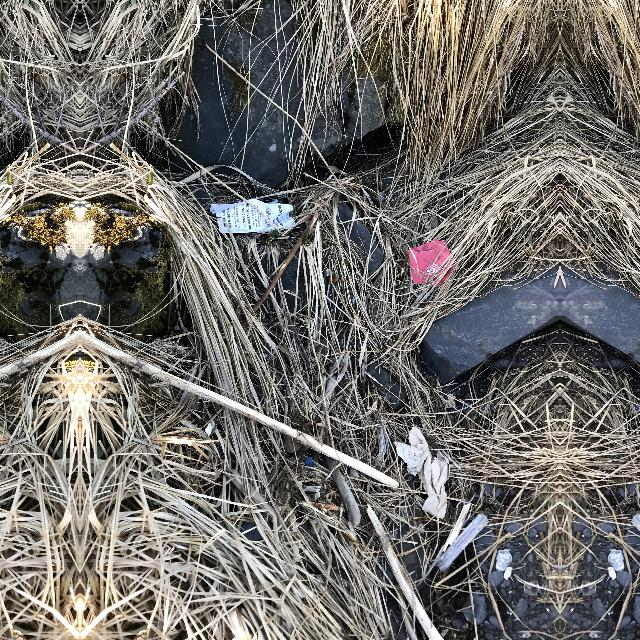Paper: (388, 422, 456, 524), (199, 199, 307, 237), (404, 235, 464, 293)
Plastic: (431, 511, 491, 577)
